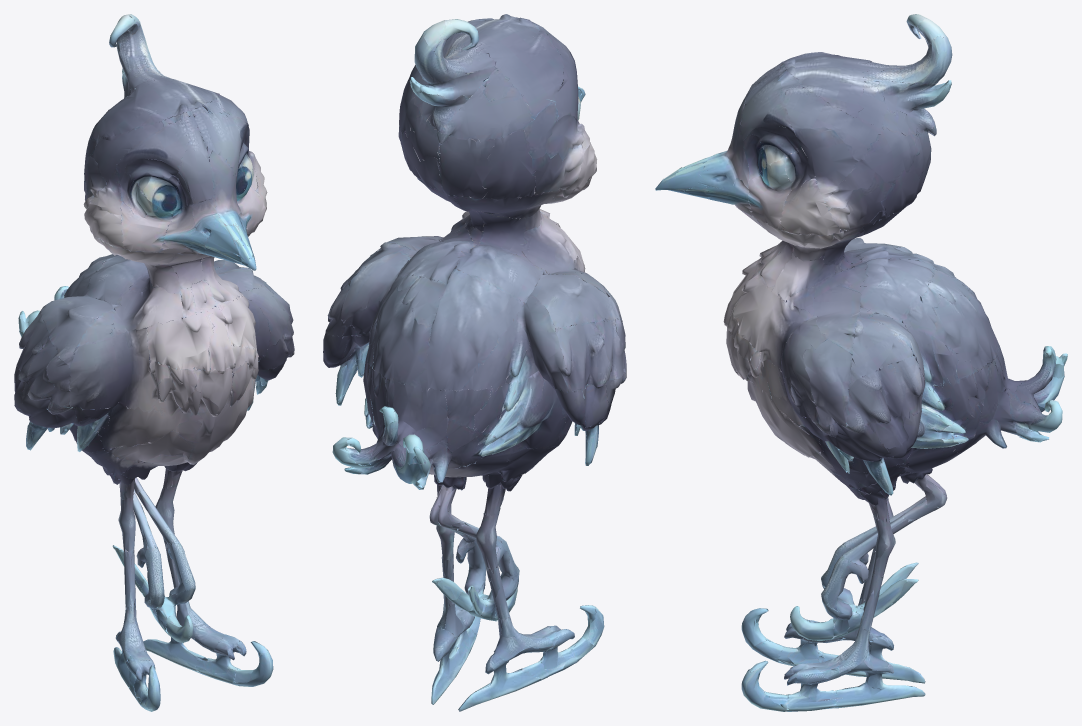
3 views of the same model, side by side, from view 1: azimuth 30°, elevation 25°; view 2: azimuth 150°, elevation 25°; view 3: azimuth 270°, elevation 25° (orthographic). The views are drawn at different scales.
Visible parts, largest first — view 1: Mesh_0; view 2: Mesh_0; view 3: Mesh_0.
Part boxes in pixels (x1,y1,x2,y2): Mesh_0: (14, 14, 294, 711); Mesh_0: (323, 14, 626, 711); Mesh_0: (655, 14, 1067, 711).
Bounding box in the file's own units: 0.8023 × 1.9 × 1.06.
1 material, 1 textured.
